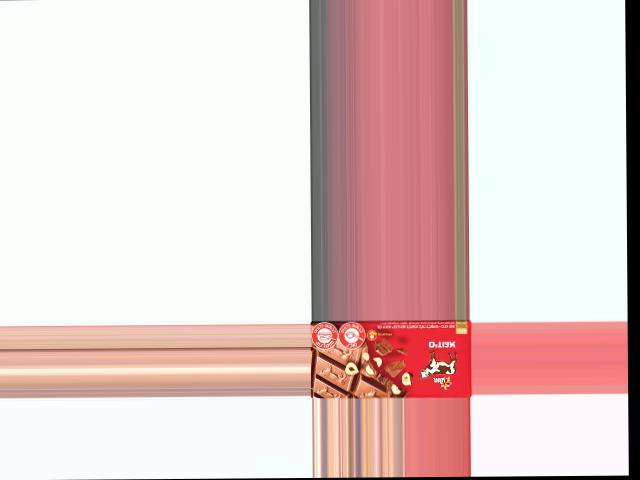chocolate: (311, 321, 472, 397)
